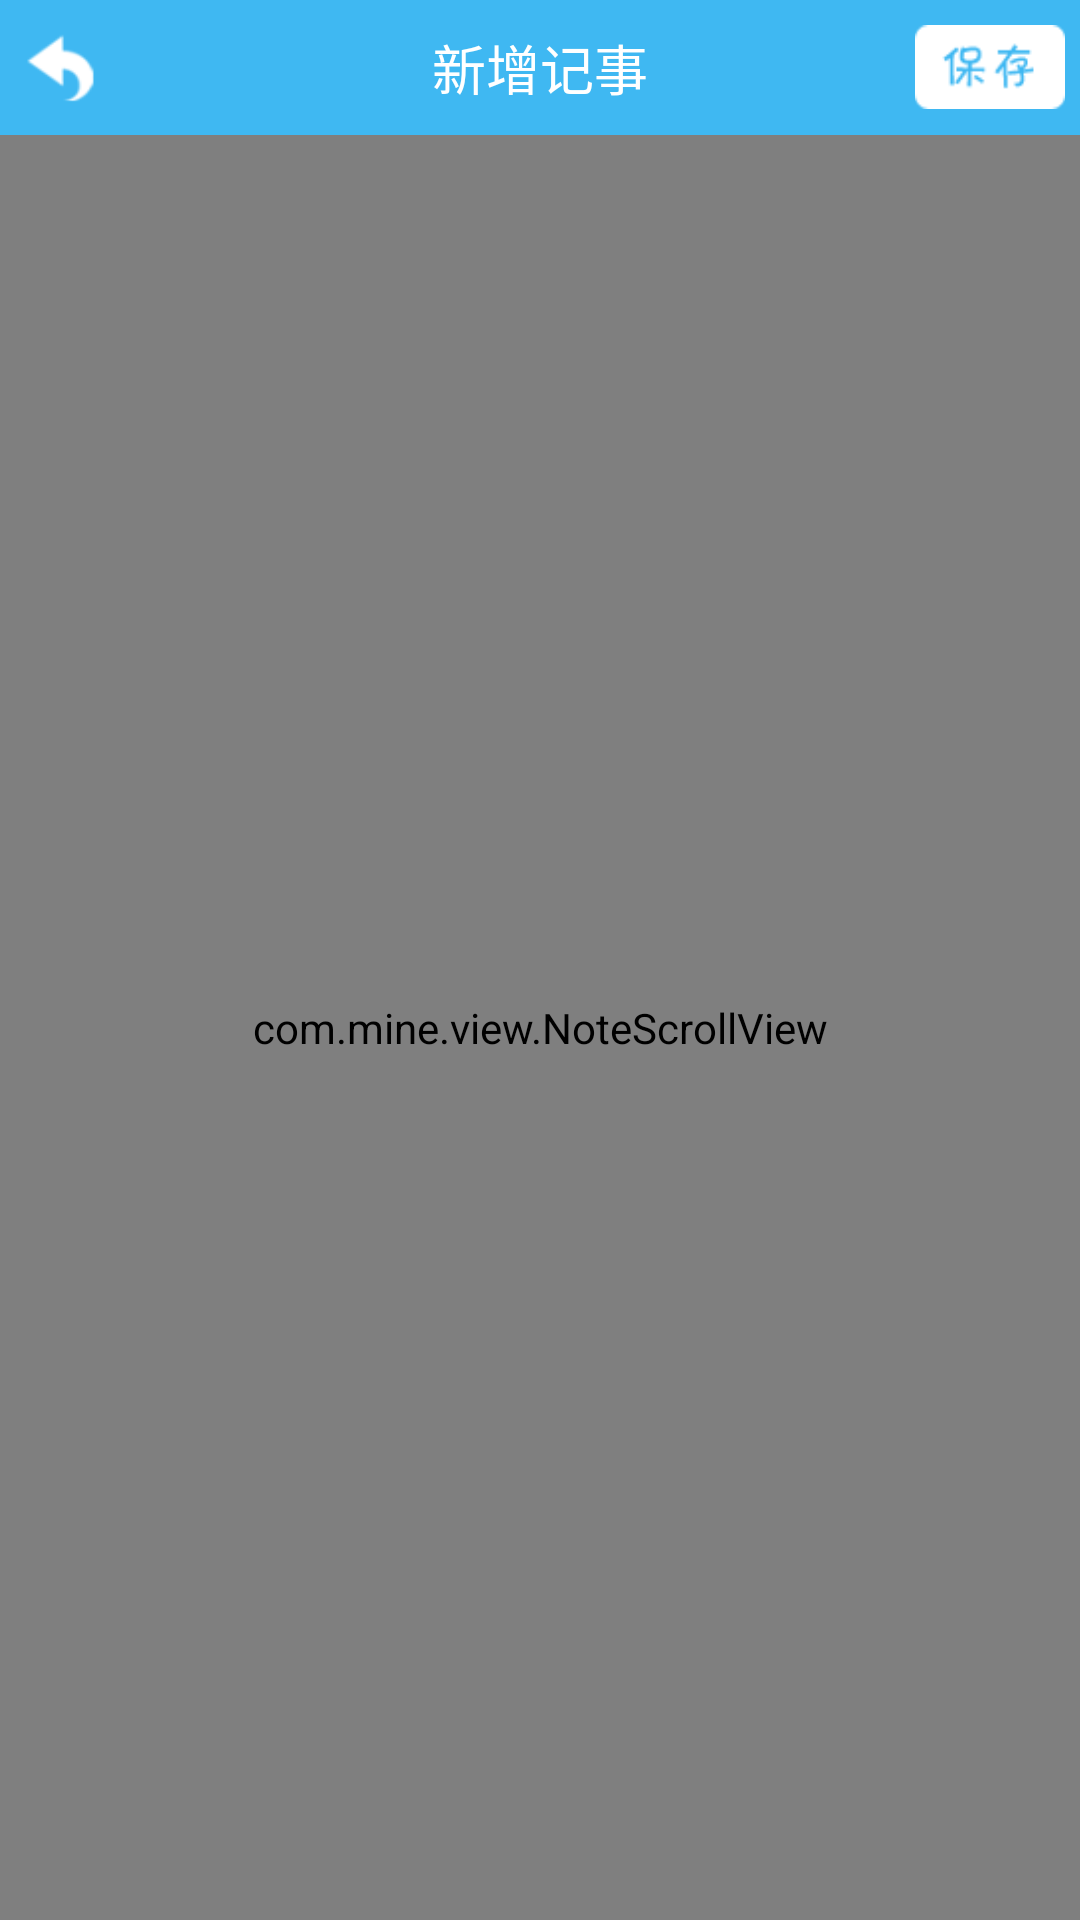

Where to tap for icons on this 1080x1920 app screen, as (x,y):
select back: (60,68)
